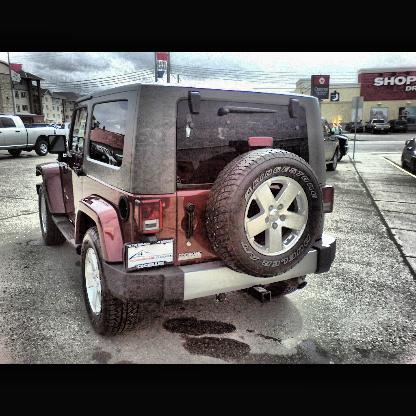Jeep Wrangler SUV 2012: (36, 86, 336, 337)
